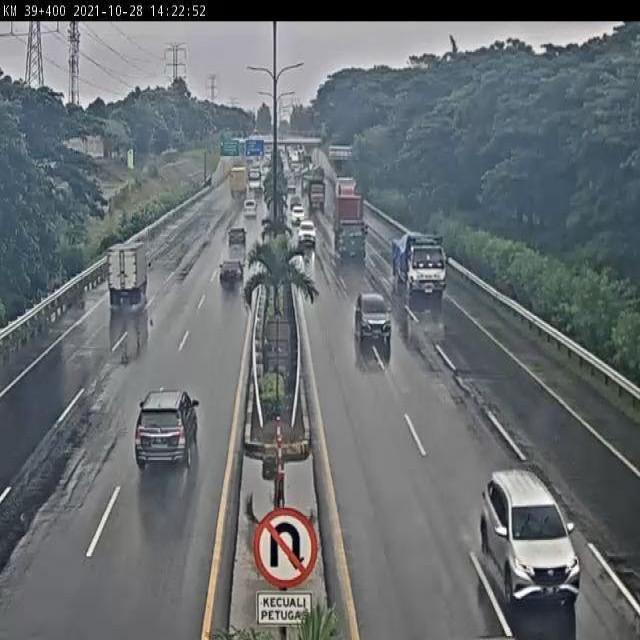truck-l-: (393, 231, 450, 297)
truck-s-: (104, 239, 149, 309)
truck-xl-: (330, 196, 368, 264)
